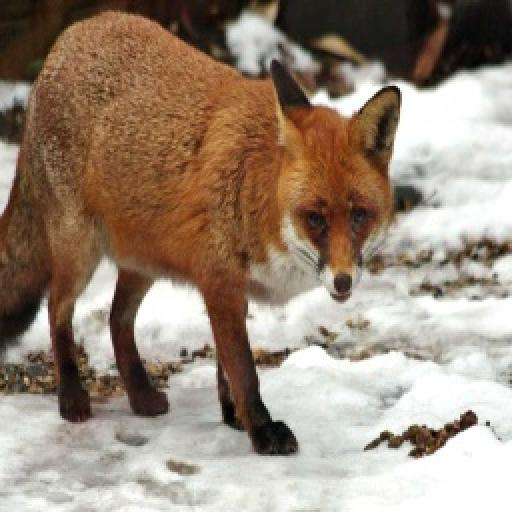zorro: (0, 12, 398, 452)
